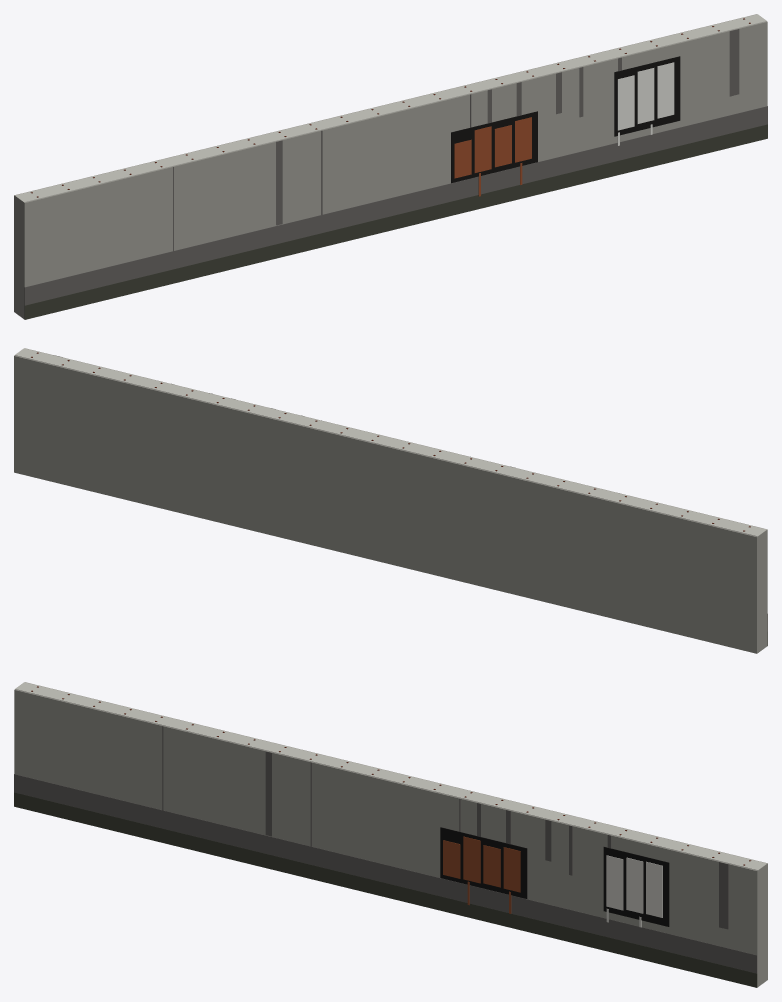
Rendered from tunnel_wall_ew_b.glb.
3 views of the same model, one above another, from view 1: azimuth 30°, elevation 25°; view 2: azimuth 150°, elevation 25°; view 3: azimuth 330°, elevation 25° (orthographic).
Visible parts, largest first — view 1: tunnel_wall_ew_b_conc, tunnel_wall_ew_b_conc_d, tunnel_wall_ew_b_green, tunnel_wall_ew_b_cut, tunnel_wall_ew_b_black, tunnel_wall_ew_b_rustp, tunnel_wall_ew_b_white; view 2: tunnel_wall_ew_b_conc, tunnel_wall_ew_b_cut; view 3: tunnel_wall_ew_b_conc, tunnel_wall_ew_b_conc_d, tunnel_wall_ew_b_green, tunnel_wall_ew_b_cut, tunnel_wall_ew_b_black, tunnel_wall_ew_b_rustp, tunnel_wall_ew_b_white.
Part boxes in pixels (box(x1,y1,x2,y2)): tunnel_wall_ew_b_conc: box(14, 14, 767, 319); tunnel_wall_ew_b_conc_d: box(24, 29, 767, 305); tunnel_wall_ew_b_green: box(24, 124, 767, 319); tunnel_wall_ew_b_cut: box(14, 14, 766, 202); tunnel_wall_ew_b_black: box(451, 56, 680, 183); tunnel_wall_ew_b_rustp: box(454, 117, 531, 196); tunnel_wall_ew_b_white: box(617, 62, 674, 145); tunnel_wall_ew_b_conc: box(14, 348, 767, 653); tunnel_wall_ew_b_cut: box(15, 348, 766, 536); tunnel_wall_ew_b_conc: box(14, 682, 767, 987); tunnel_wall_ew_b_conc_d: box(14, 726, 757, 973); tunnel_wall_ew_b_green: box(14, 792, 757, 987); tunnel_wall_ew_b_cut: box(15, 682, 767, 870); tunnel_wall_ew_b_black: box(440, 827, 669, 926); tunnel_wall_ew_b_rustp: box(443, 836, 520, 913); tunnel_wall_ew_b_white: box(606, 855, 662, 927).
Bounding box in the file's own units: 12 × 1.81 × 0.314.
